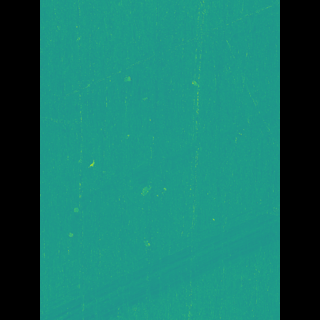Loch: (70, 195, 250, 320), (86, 105, 251, 221), (144, 182, 157, 199), (131, 74, 140, 86)
